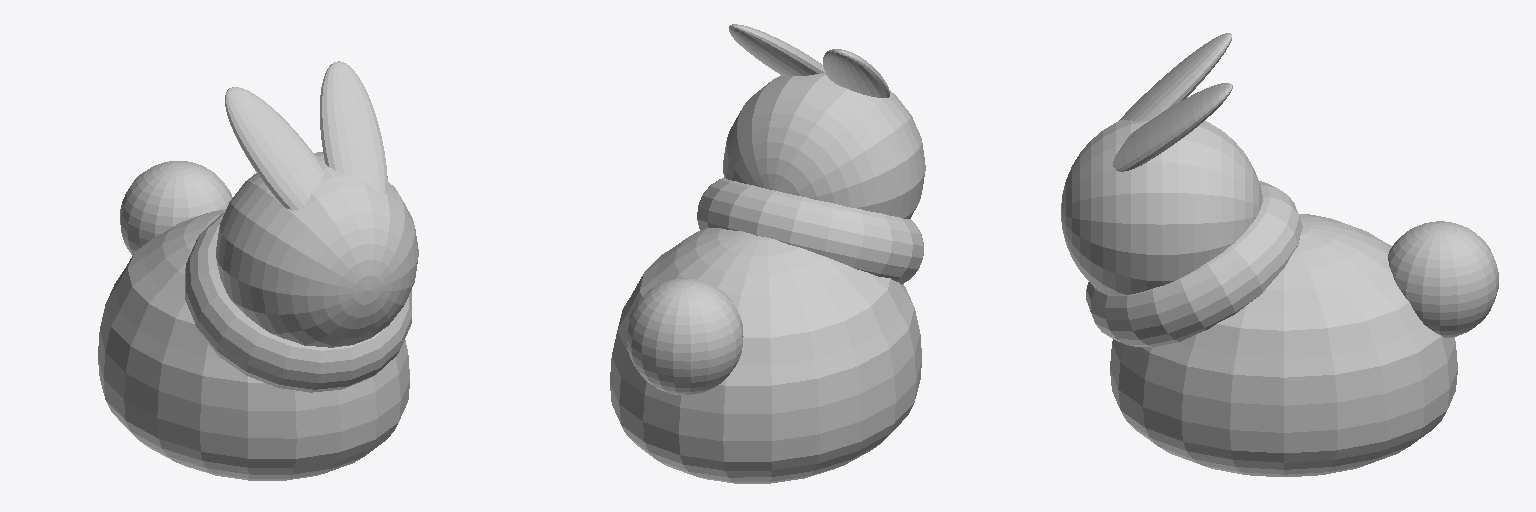
Rendered from rabbit.obj.
The picture shows the model from 3 angles: view 1: azimuth 30°, elevation 25°; view 2: azimuth 150°, elevation 25°; view 3: azimuth 270°, elevation 25°; orthographic projection.
Visible parts, largest first — view 1: pSphere5, pSphere7, pTorus1, pSphere9, pSphere10, pSphere8; view 2: pSphere5, pSphere7, pTorus1, pSphere10, pSphere8, pSphere9; view 3: pSphere5, pSphere7, pTorus1, pSphere10, pSphere8, pSphere9.
Part boxes in pixels (bbox=[...]): pSphere5: bbox=[98, 209, 409, 480]; pSphere7: bbox=[216, 152, 418, 347]; pTorus1: bbox=[185, 213, 411, 392]; pSphere9: bbox=[225, 87, 323, 210]; pSphere10: bbox=[120, 161, 232, 255]; pSphere8: bbox=[320, 61, 387, 193]; pSphere5: bbox=[610, 228, 921, 483]; pSphere7: bbox=[723, 72, 925, 218]; pTorus1: bbox=[697, 178, 923, 284]; pSphere10: bbox=[627, 278, 743, 395]; pSphere8: bbox=[729, 24, 824, 75]; pSphere9: bbox=[823, 49, 889, 97]; pSphere5: bbox=[1110, 214, 1457, 476]; pSphere7: bbox=[1061, 119, 1262, 294]; pTorus1: bbox=[1086, 181, 1302, 346]; pSphere10: bbox=[1388, 221, 1498, 337]; pSphere8: bbox=[1113, 83, 1232, 171]; pSphere9: bbox=[1119, 33, 1231, 120].
Bounding box in the file's own units: 0.985 × 1.44 × 1.44.